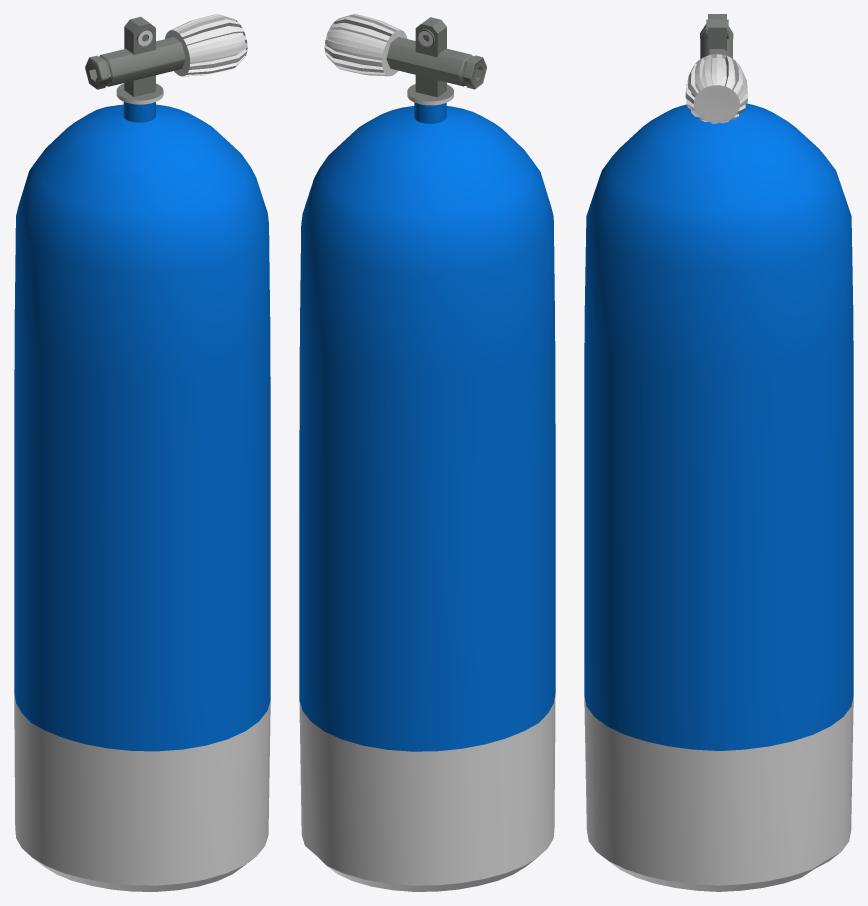
File: airPickup_large.fbx
The picture shows the model from 3 angles, left to right: view 1: azimuth 30°, elevation 25°; view 2: azimuth 150°, elevation 25°; view 3: azimuth 270°, elevation 25°; orthographic projection.
Visible parts, largest first — view 1: AirTankPickup; view 2: AirTankPickup; view 3: AirTankPickup.
Boxes of the visible parts, <box> form: AirTankPickup: <box>14,14,270,891</box>; AirTankPickup: <box>299,14,555,891</box>; AirTankPickup: <box>584,14,853,891</box>.
Size of the model in its own units: 29.02 by 102 by 30.26.
